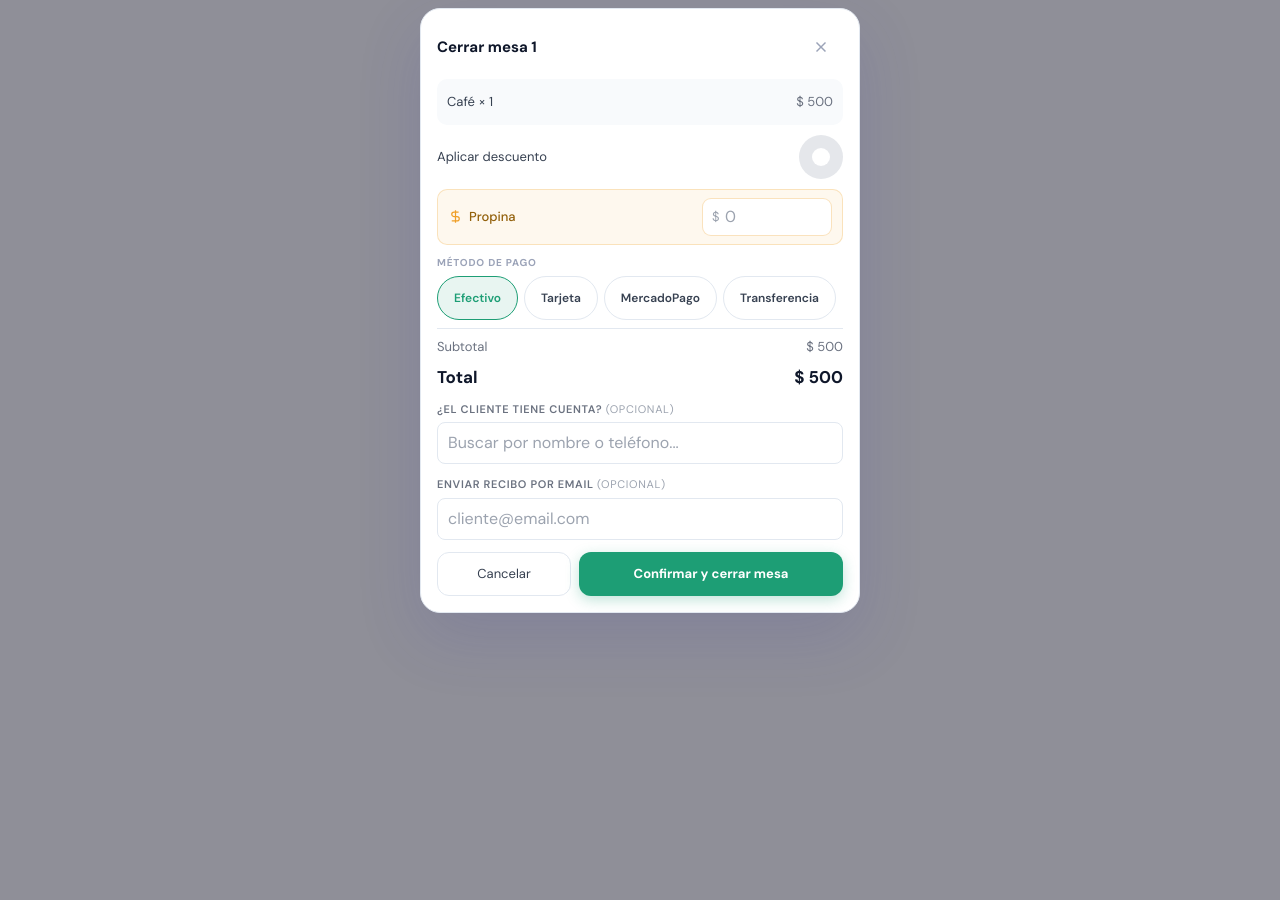
Scenario: CloseTableModal — double-submit prevention › disables confirm button and shows "Cerrando..." while submitting
This screenshot has width=1280, height=900.
Click the button "Confirmar y cerrar mesa" at [711, 574], box [579,552,843,596]
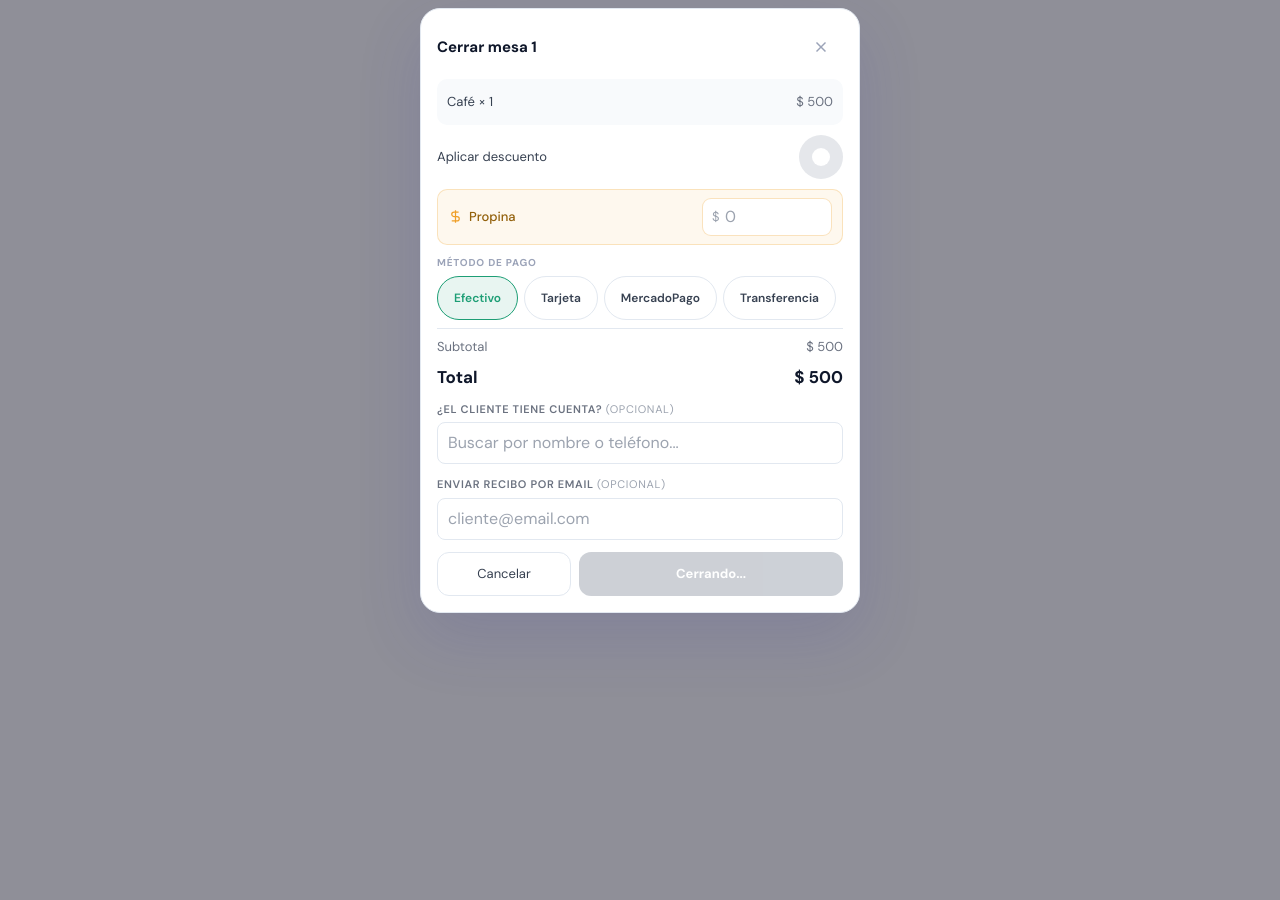
Result: the button "Cerrando..." is disabled at [579,552,843,596]
